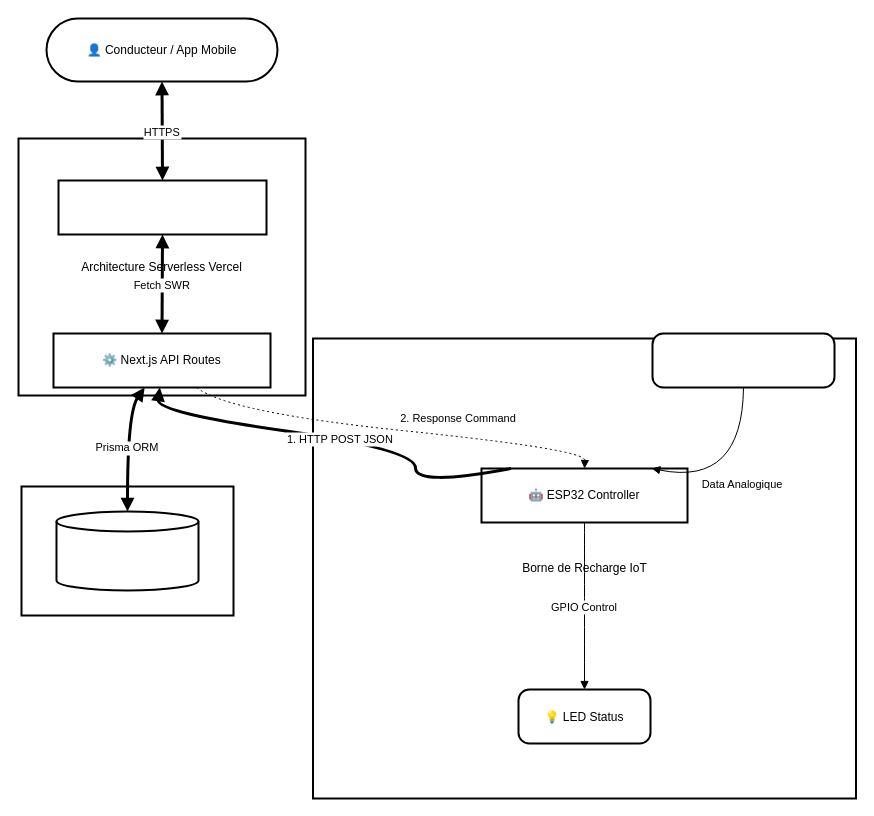
The diagram is 874 pixels wide and 816 high, and some of its shapes have lost their labels. The shapes that lost their labels are listed below. From the top down, each one's centre as x and y in pixels, then its label:
At point 162,207: "📱 Next.js Frontend".
At point 743,360: "⚡ Capteurs Courant".
At point 127,550: "🗄️ Neon Postgres".
